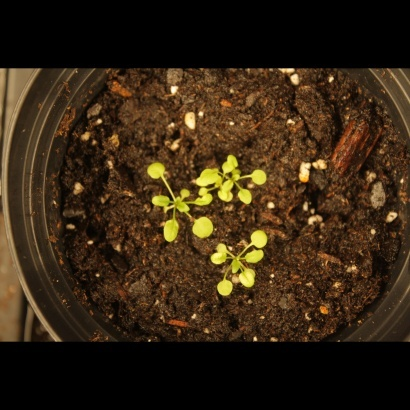leaf: (156, 216, 185, 245), (190, 215, 216, 240), (237, 266, 263, 291), (211, 275, 235, 302), (146, 160, 169, 183), (150, 190, 173, 213), (193, 191, 216, 214), (172, 180, 195, 203), (169, 196, 192, 219), (237, 186, 260, 209), (248, 166, 271, 189), (212, 187, 235, 210), (197, 165, 220, 188), (221, 153, 244, 176), (249, 228, 272, 251), (246, 246, 269, 269), (207, 245, 230, 268)
